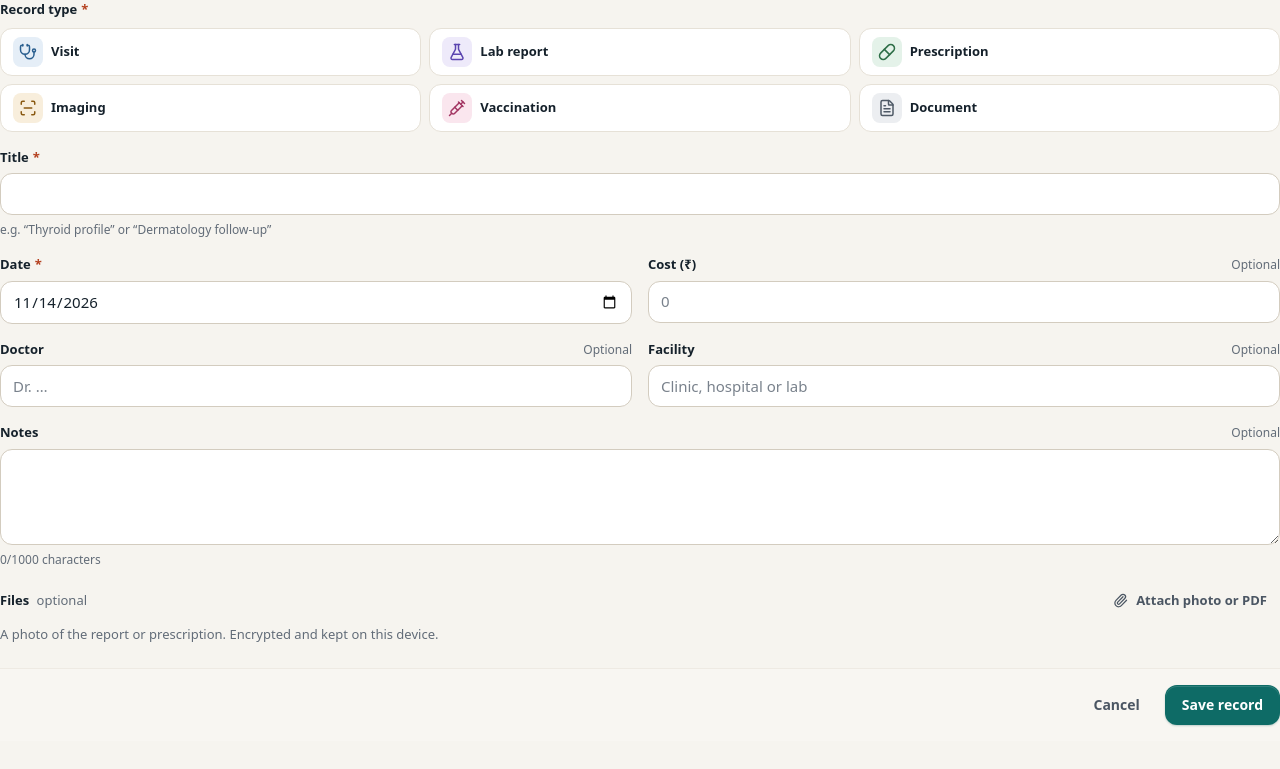
it: AddRecordForm › clears errors as fields are fixed after a failed submit
The width and height of the screenshot is (1280, 769).
Click the button "Save record" at coordinates (1222, 705), box [1165,685,1279,725]
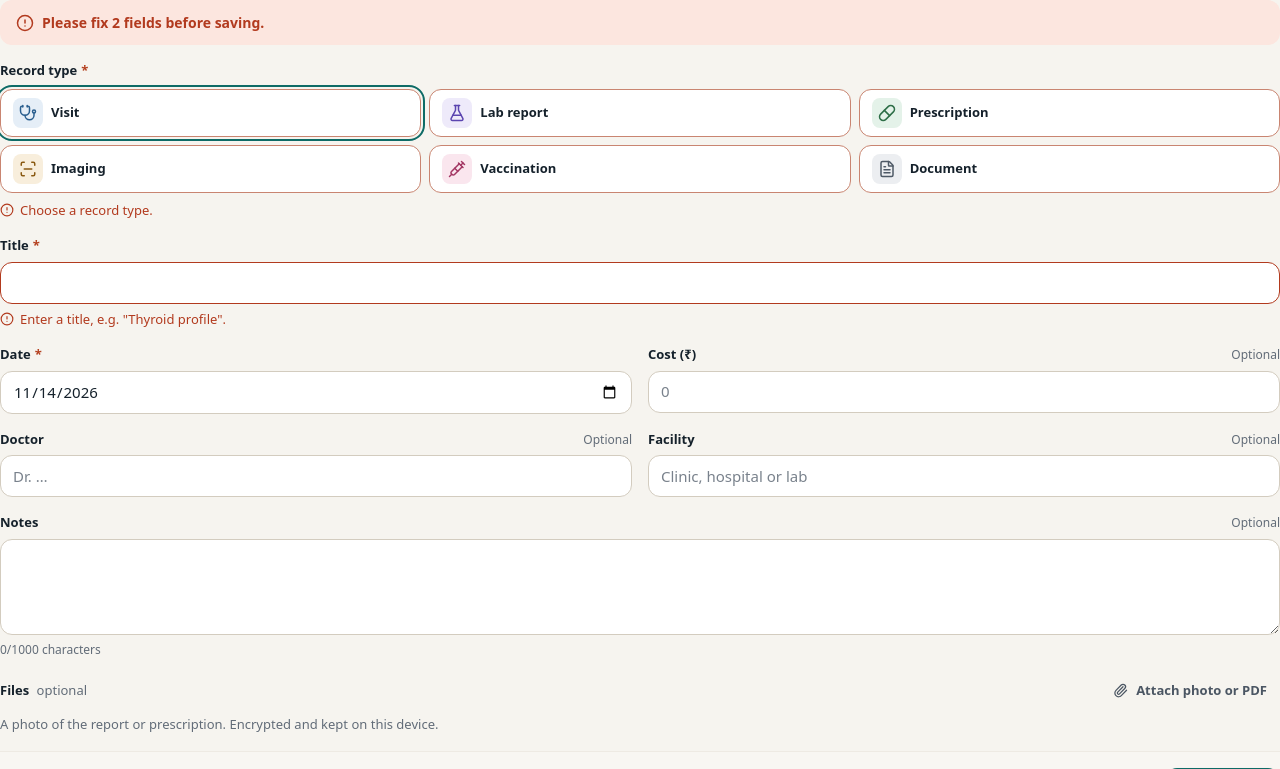
Type "Dermatology follow-up" into the field labelled "Title *" at coordinates (640, 282), box [0,262,1279,304]
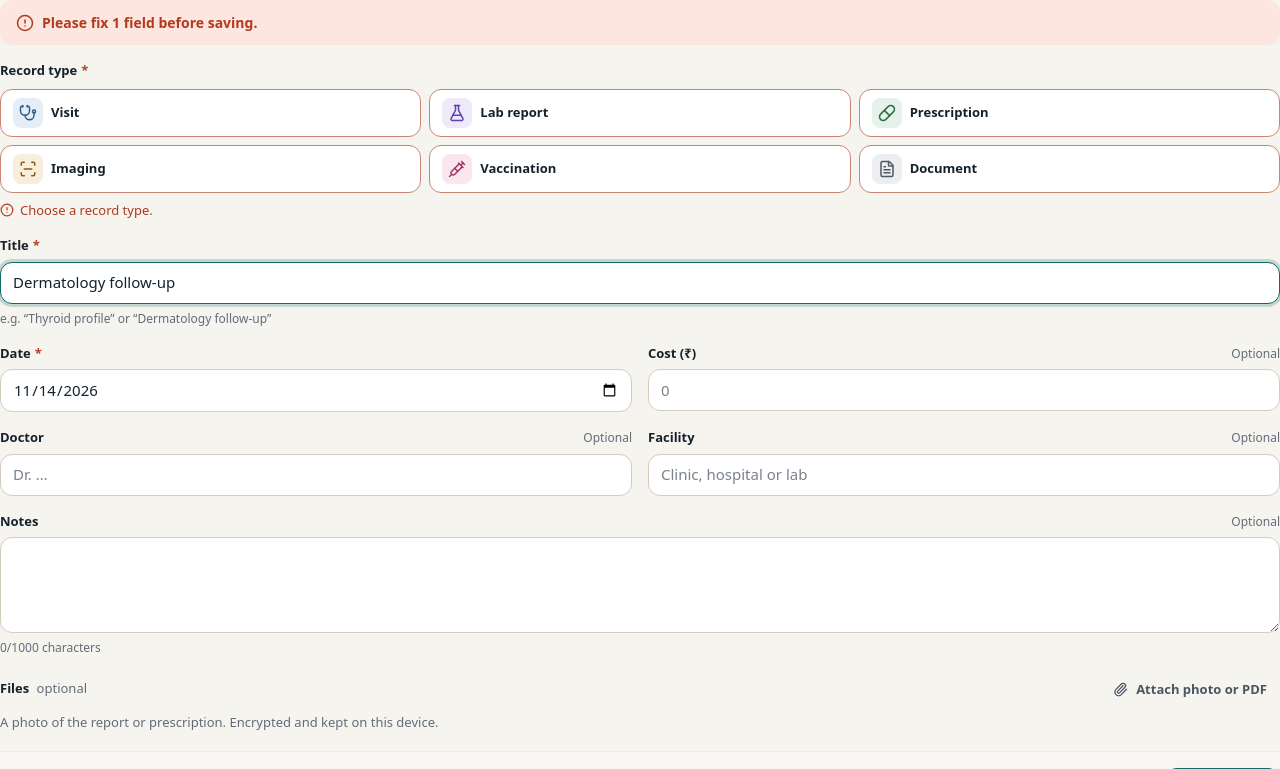
Expected: the text "Enter a title" is gone
Expected: the message reads "Please fix 1 field before saving.", [0,0,1279,45]
